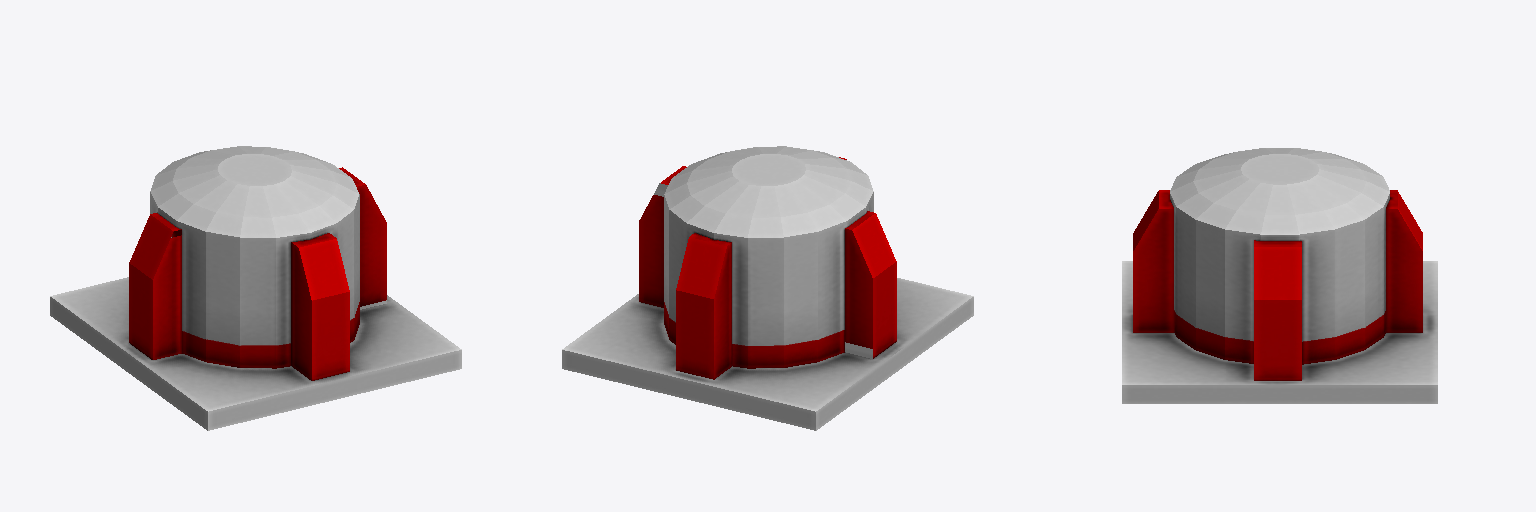
3 renders of one model, left to right at view 1: azimuth 30°, elevation 25°; view 2: azimuth 150°, elevation 25°; view 3: azimuth 270°, elevation 25°, orthographic.
Visible parts, largest first — view 1: Box002.002; view 2: Box002.002; view 3: Box002.002.
Part boxes in pixels (left/top/right/bottom): Box002.002: left=50, top=146, right=461, bottom=430; Box002.002: left=562, top=146, right=973, bottom=430; Box002.002: left=1122, top=148, right=1437, bottom=403.
Bounding box in the file's own units: 6.75 × 4.38 × 7.26.
1 materials, 1 textured.